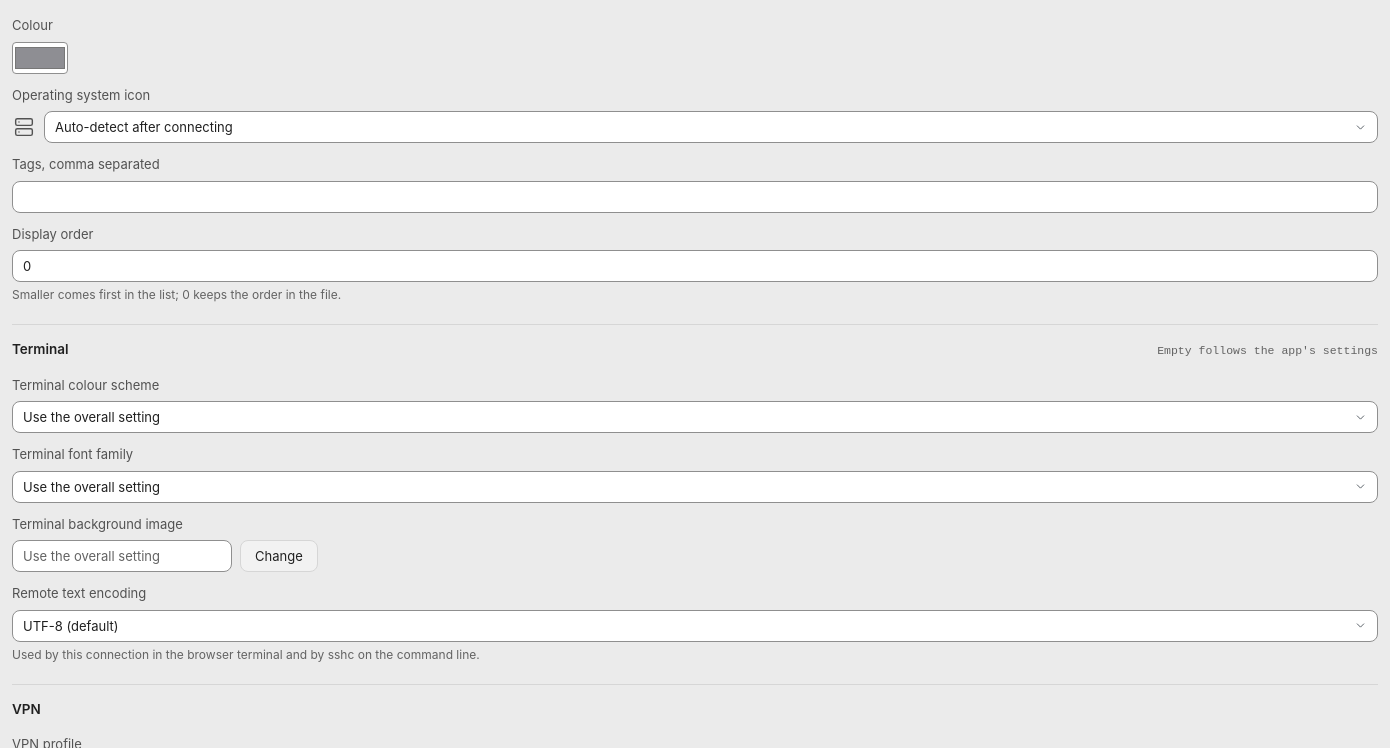
Test: HostInspector › discards the draft back to the saved values
Step 1. Select "Shift_JIS (Japanese)" in the dropdown labelled "Remote text encoding" → [695, 626], box [12,610,1378,642]
(page scrolled)
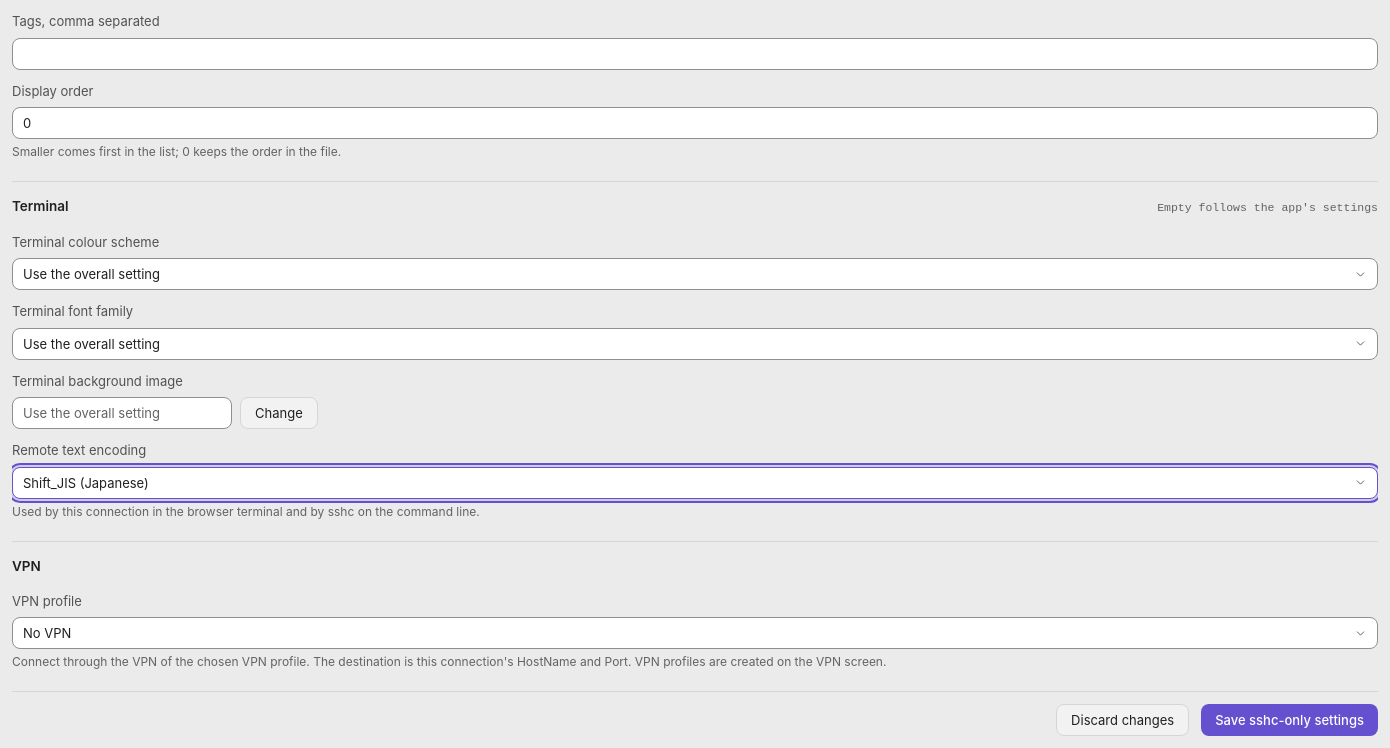
Step 2. Click the button "Discard changes" → [1123, 720], box [1056,704,1189,736]
(page scrolled)
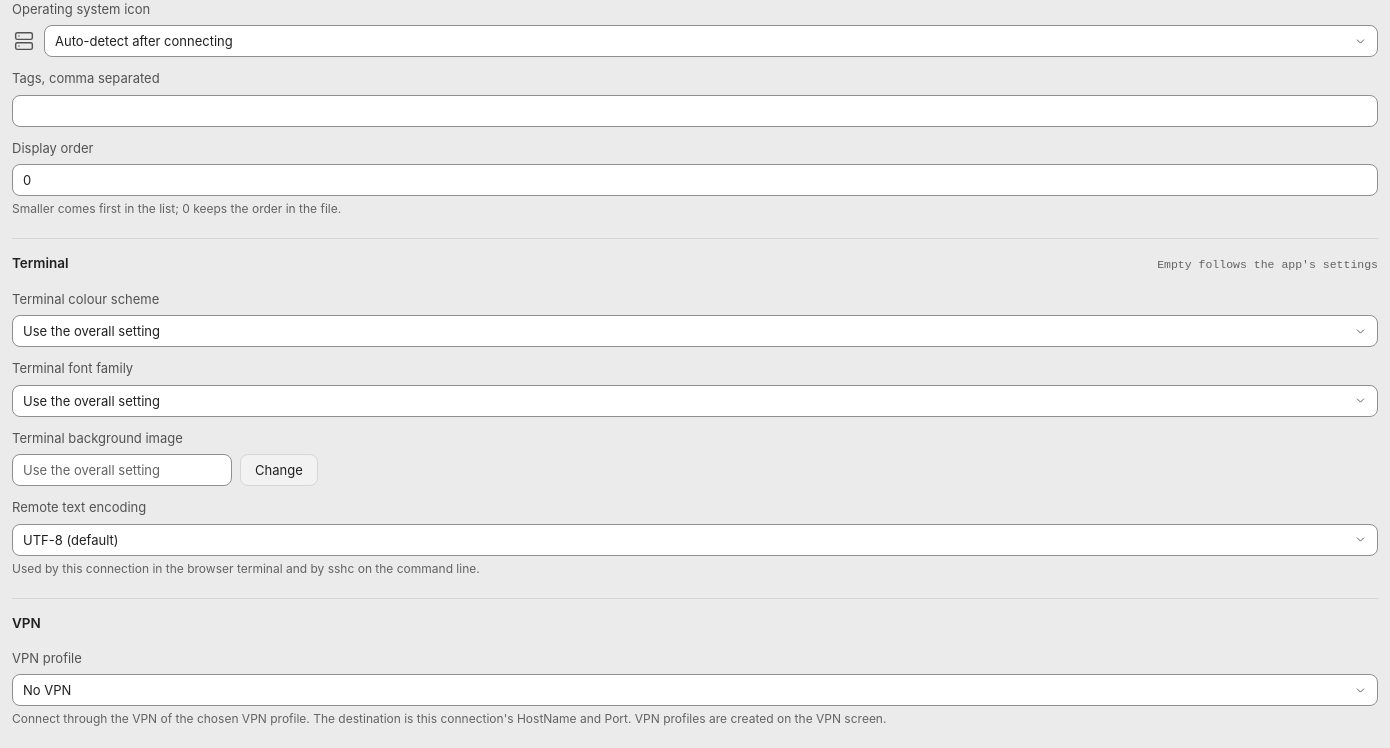
Now the button "Save sshc-only settings" is gone
